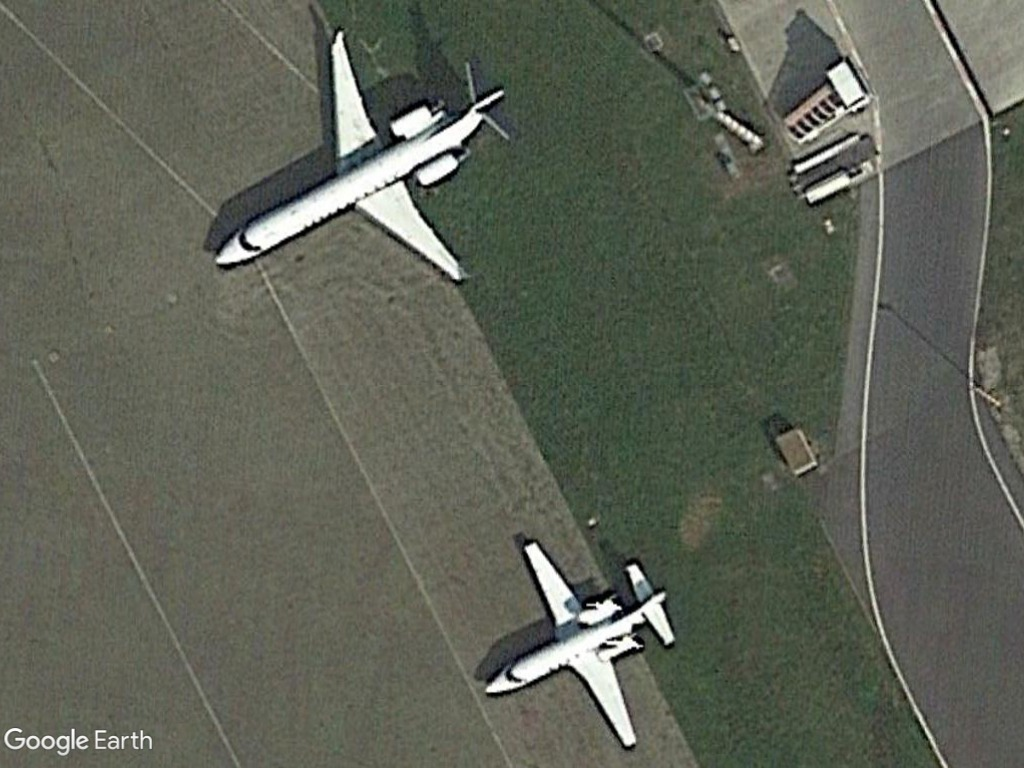chartered: (473, 527, 705, 752)
stairtruck: (777, 61, 869, 150)
trainer: (206, 11, 524, 291)
